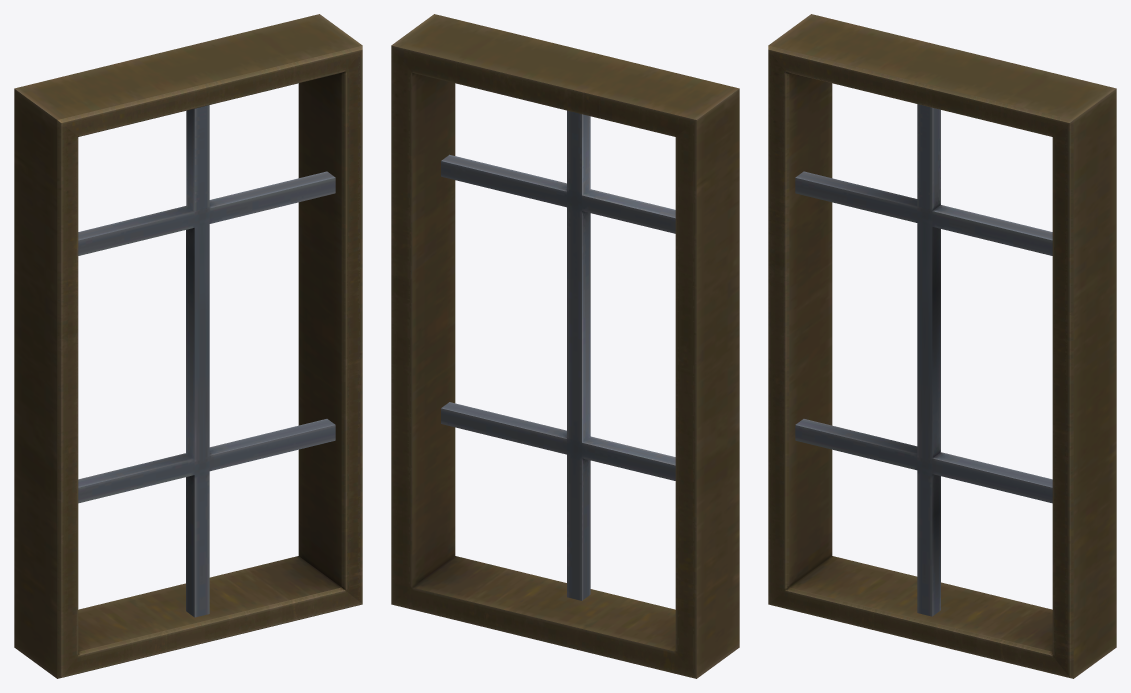
The model's file is Window_Var1.obj.
3 renders of one model, left to right at view 1: azimuth 30°, elevation 25°; view 2: azimuth 150°, elevation 25°; view 3: azimuth 330°, elevation 25°, orthographic.
Parts seen in each view (by area): view 1: Model_Window_Var1; view 2: Model_Window_Var1; view 3: Model_Window_Var1.
Part boxes in pixels (<box>): Model_Window_Var1: <box>14,14,362,678</box>; Model_Window_Var1: <box>391,14,739,678</box>; Model_Window_Var1: <box>768,14,1116,678</box>.
Bounding box in the file's own units: 1.02 × 1.79 × 0.261.
Materials: 1 (1 with a texture image).
